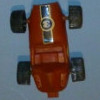carro: (13, 4, 83, 95)
